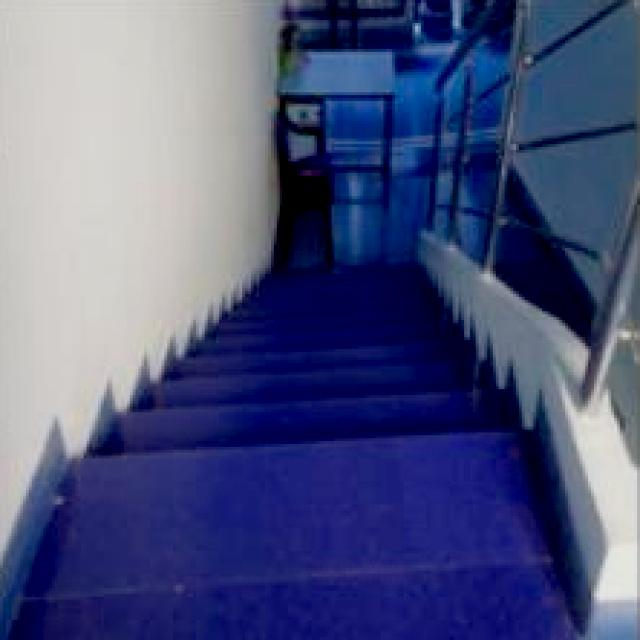downstair: (53, 315, 503, 488)
